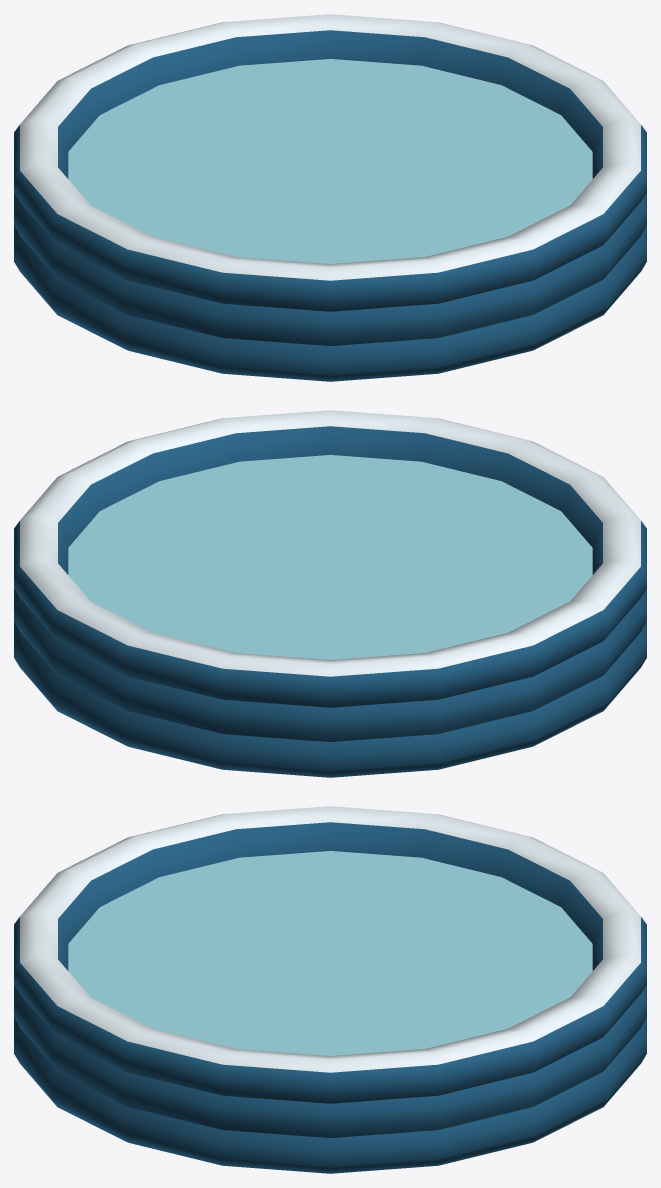
The model's file is SM_Pool.FBX.
3 renders of one model, top to bottom at view 1: azimuth 30°, elevation 25°; view 2: azimuth 150°, elevation 25°; view 3: azimuth 270°, elevation 25°, orthographic.
Visible parts, largest first — view 1: Pool; view 2: Pool; view 3: Pool.
Part boxes in pixels (x1,y1,x2,y2): Pool: [14, 14, 646, 381]; Pool: [14, 410, 646, 777]; Pool: [14, 806, 646, 1173].
Bounding box in the file's own units: 345 × 63.54 × 340.
Materials: 1 (1 with a texture image).
